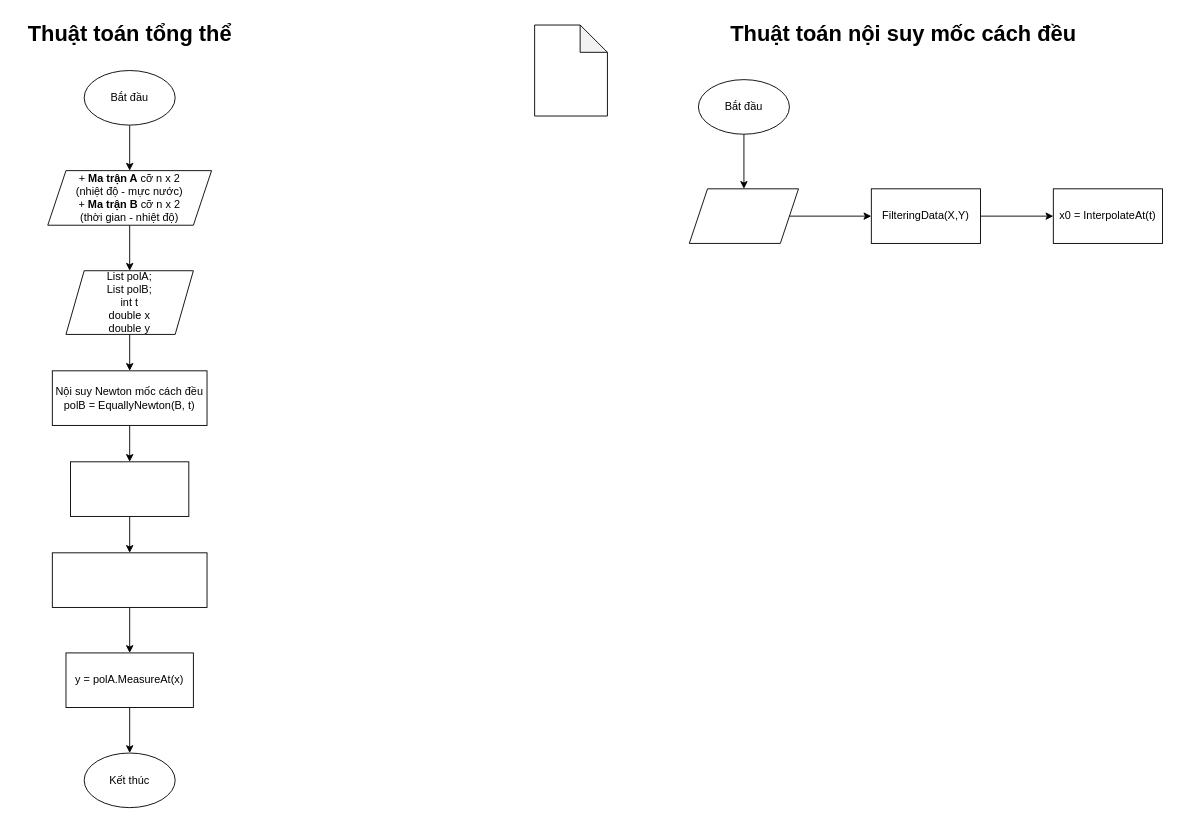
Image size: 1178x824. Some labels were removed from this diagram. Here are the shapes that lost their labels. From the top down, the box of each, then its label:
(534, 24, 607, 116): Input: ma trận cỡ n x 2 (A), integer (t) Output: List
(688, 188, 799, 243): List X = A[0] List Y = A[1] int x0
(70, 461, 189, 516): x = polB.MeasureAt(t)
(51, 552, 207, 607): Nội suy Newton mốc bất kỳ polA = ArbitraryNewton(A, x)
